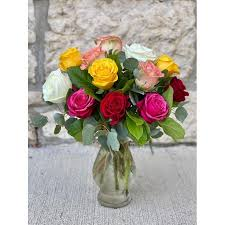lale: (29, 67, 78, 109), (81, 55, 123, 94), (92, 90, 131, 128), (135, 89, 168, 125), (141, 59, 174, 94), (53, 45, 85, 75), (123, 39, 153, 68), (68, 89, 91, 124)
